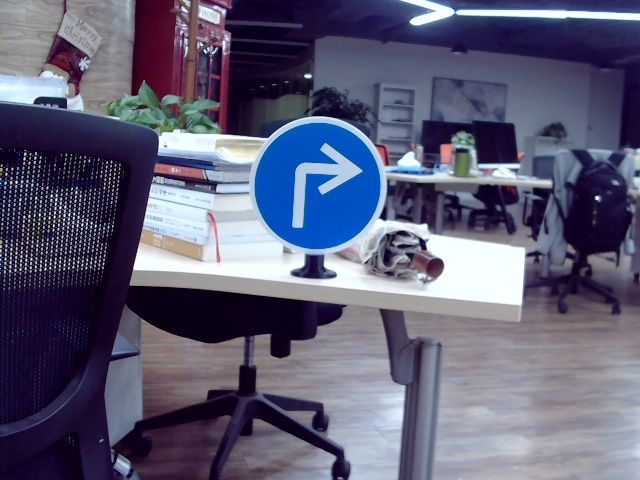turn_right: (288, 143, 359, 229)
